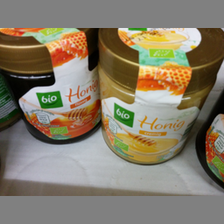honey: (97, 28, 224, 167), (1, 28, 100, 145)
